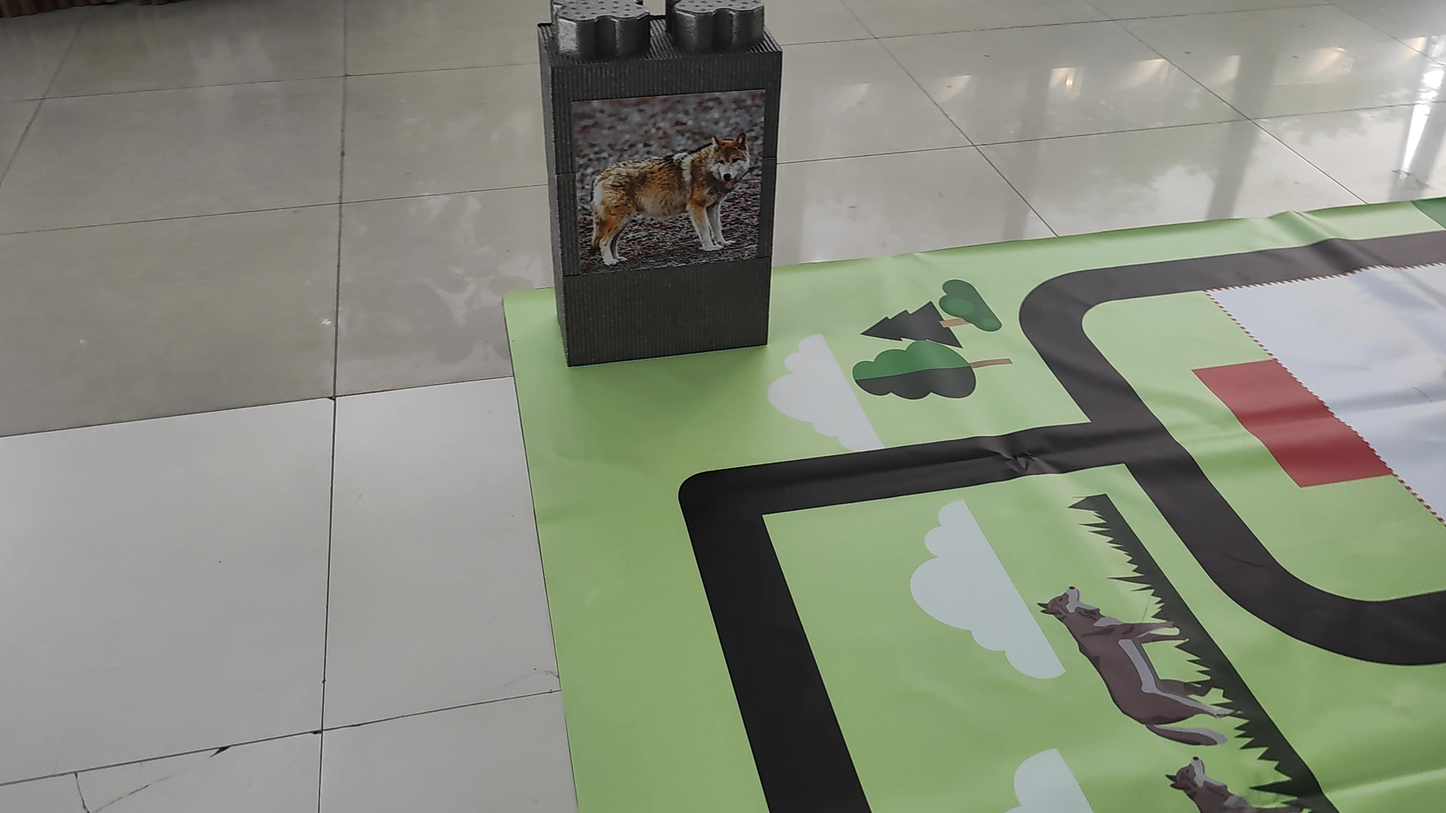wolf: (569, 95, 765, 268)
